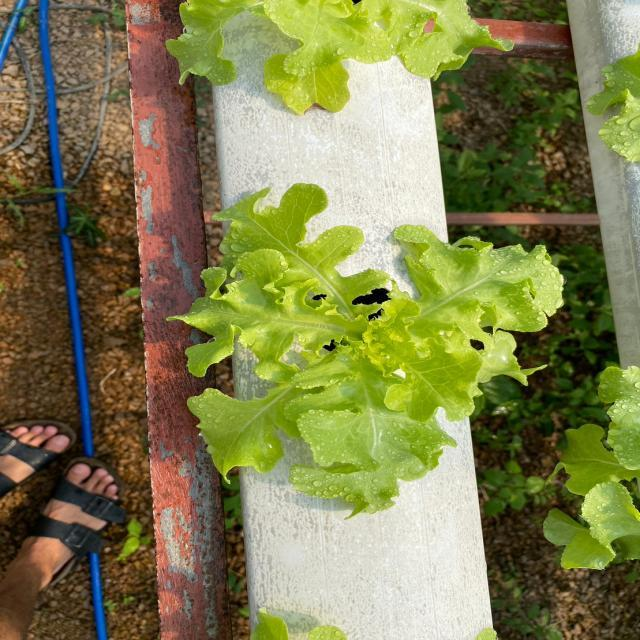Lettuce-Not-Ready-to-Harvest: (180, 182, 553, 504)
